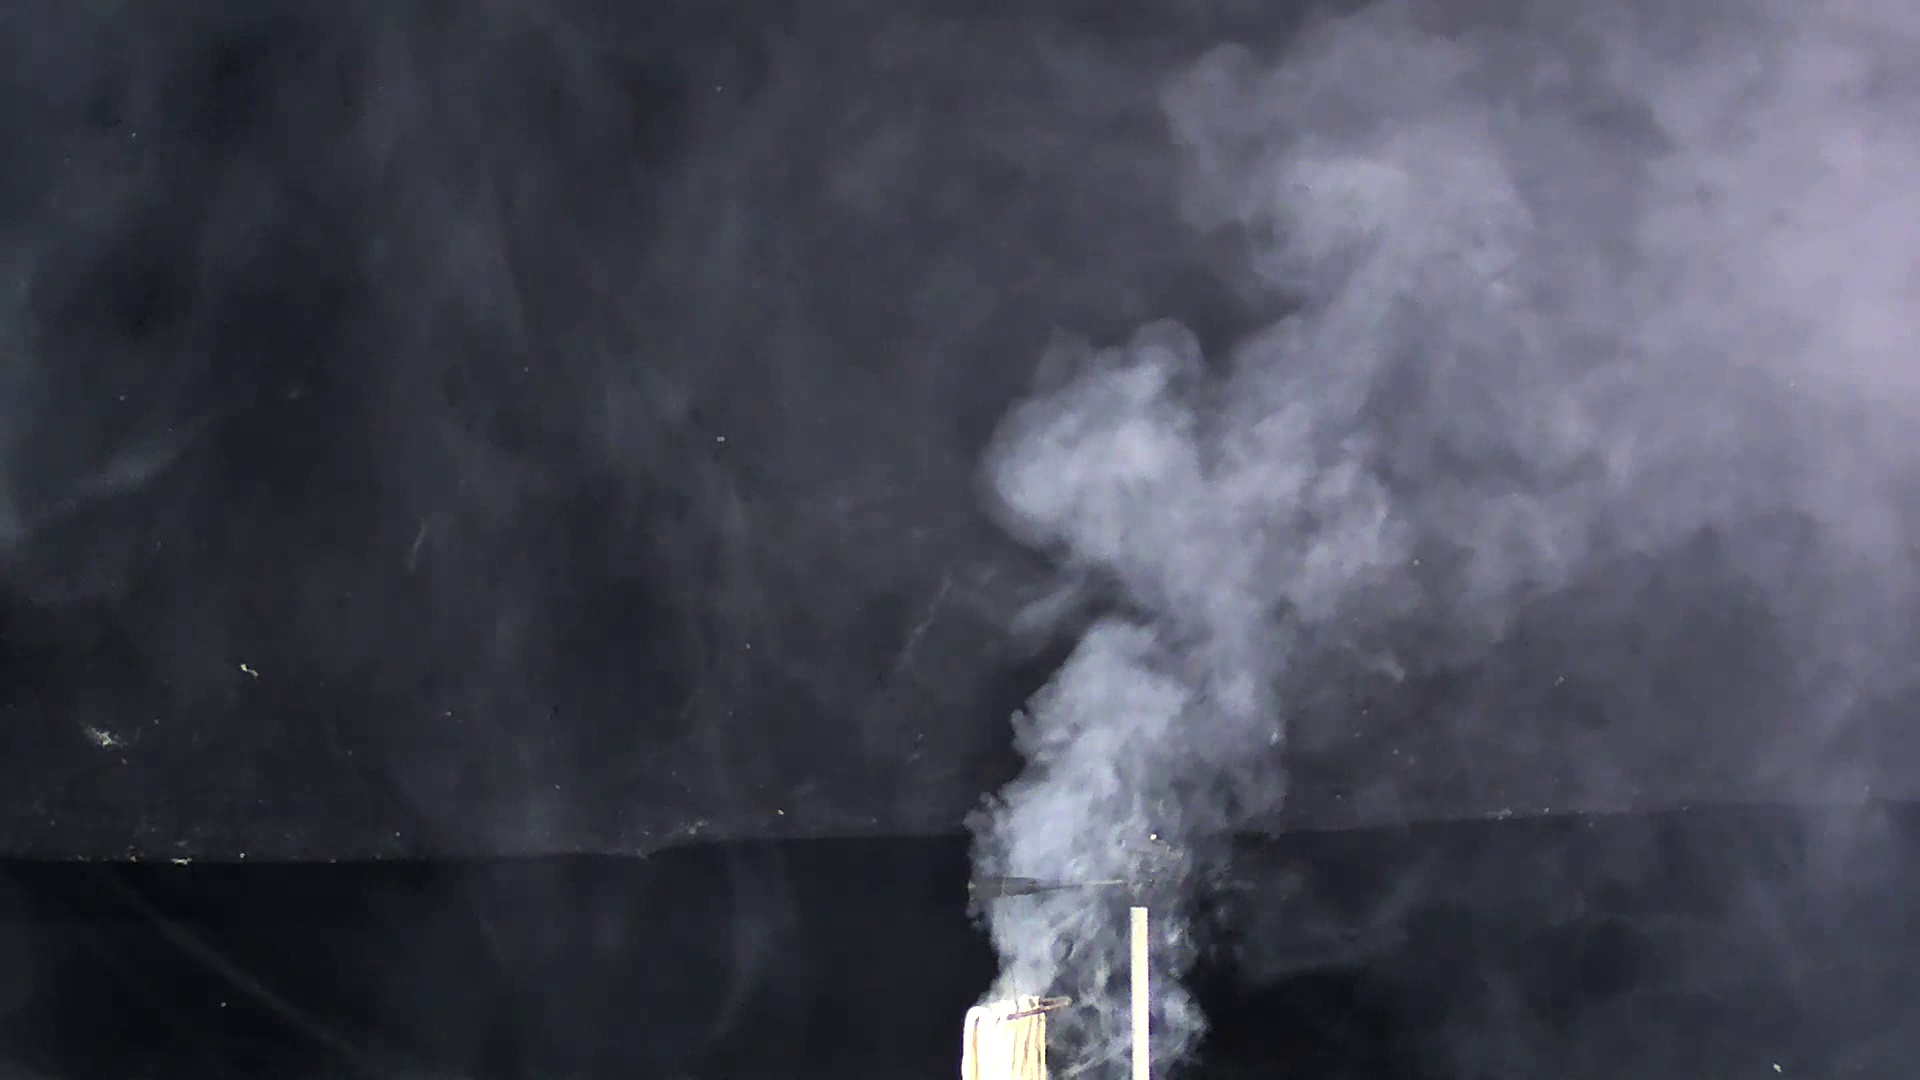smoke: (884, 152, 1652, 1068)
